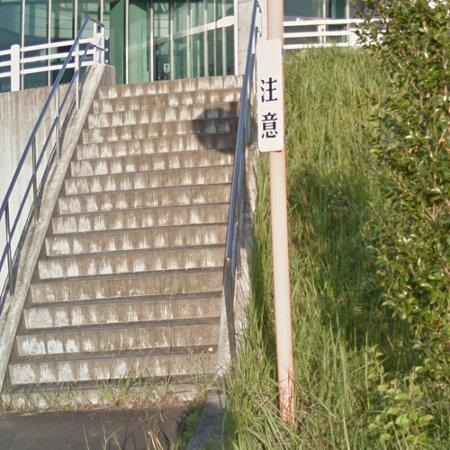stairs: (4, 76, 241, 409)
